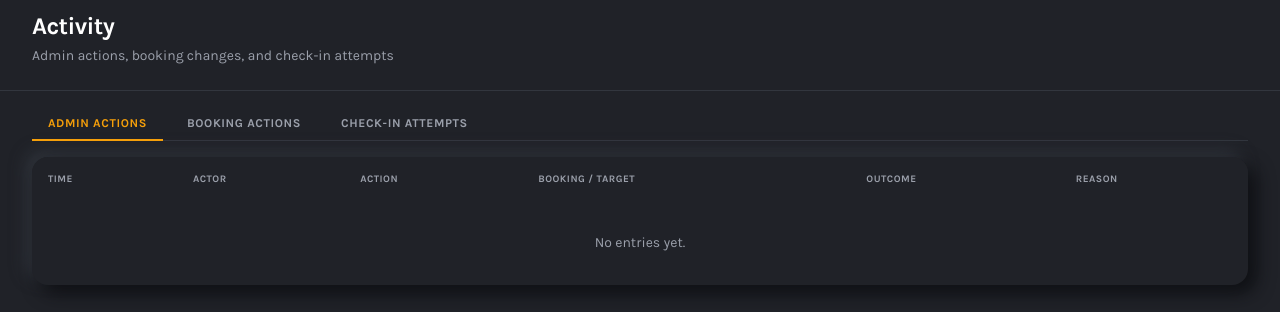
Scenario: AdminAuditLog — tabs, buttons, and idempotency-aware copy › "Check-in attempts" tab shows empty-state when no attempts logged
Click the button "Check-in attempts" at (404, 124), box [325,107,484,141]
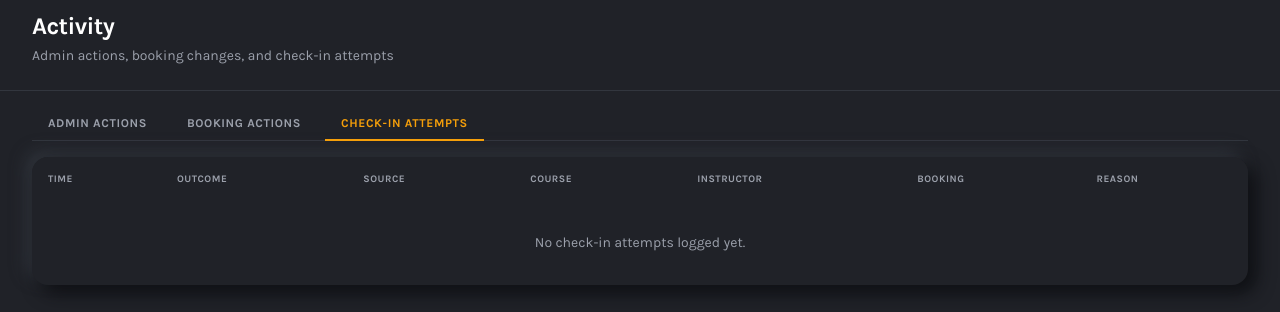
expect the text "No check-in attempts logged yet." is shown: met, box [32,201,1248,285]
